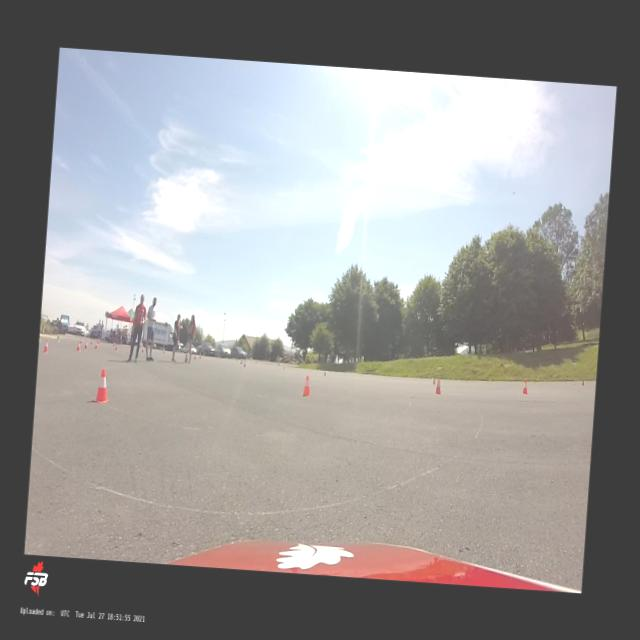orange_cone: (92, 366, 111, 404), (302, 374, 312, 396), (434, 378, 442, 394), (522, 379, 528, 394), (43, 340, 49, 352), (76, 340, 81, 350), (141, 344, 145, 352), (94, 341, 98, 348), (84, 341, 88, 348), (114, 344, 118, 349), (243, 361, 246, 367), (79, 338, 82, 343), (90, 338, 92, 344)
yellow_cone: (57, 335, 60, 341), (282, 365, 284, 370)
